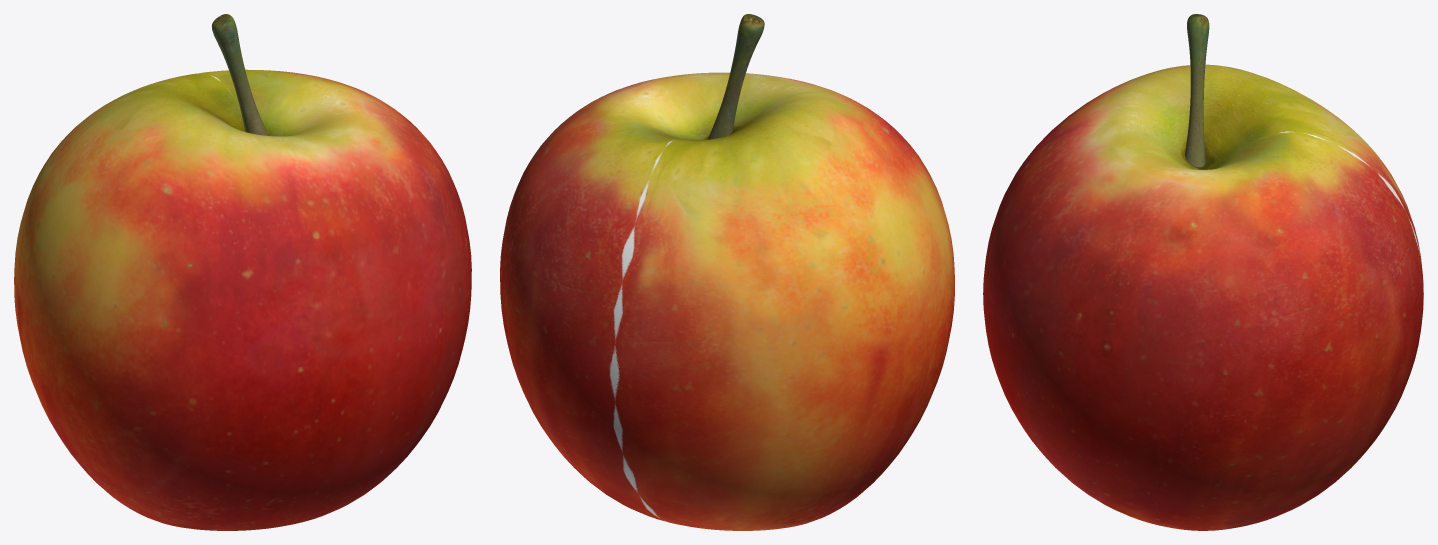
The model's file is apple-lod1.glb.
The picture shows the model from 3 angles, left to right: view 1: azimuth 30°, elevation 25°; view 2: azimuth 150°, elevation 25°; view 3: azimuth 270°, elevation 25°; orthographic projection. The views are drawn at different scales.
Parts seen in each view (by area): view 1: apple_Sphere; view 2: apple_Sphere; view 3: apple_Sphere.
Boxes of the visible parts, x1,y1,x2,y2 form: apple_Sphere: (14,14,471,530); apple_Sphere: (500,14,954,530); apple_Sphere: (983,14,1423,530).
Bounding box in the file's own units: 0.1101 × 0.1295 × 0.1095.
1 material, 1 textured.
